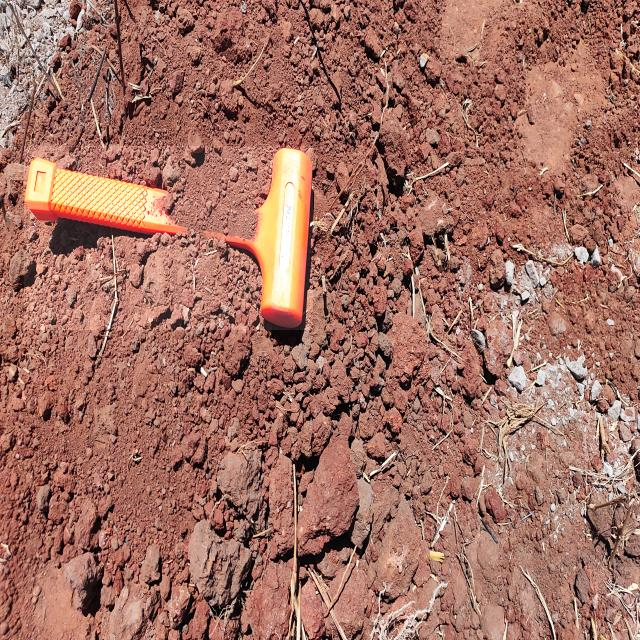Orange_hammer: (24, 146, 313, 330)
